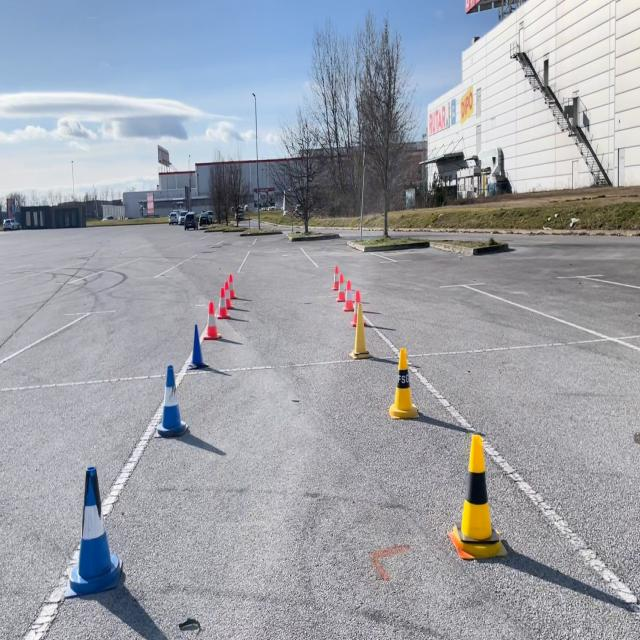blue_cone: (67, 464, 121, 596), (155, 362, 187, 437), (186, 321, 208, 369)
orange_cone: (201, 299, 221, 339), (342, 276, 356, 312), (216, 283, 229, 318), (351, 283, 360, 327), (226, 272, 236, 300), (331, 266, 339, 290)
yellow_cone: (449, 430, 505, 560), (386, 346, 418, 420), (347, 301, 371, 359)
